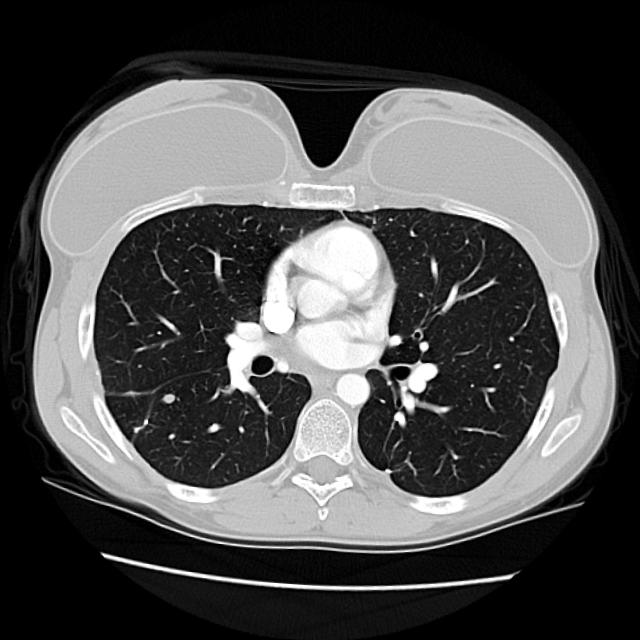nodule: (152, 382, 182, 412)
